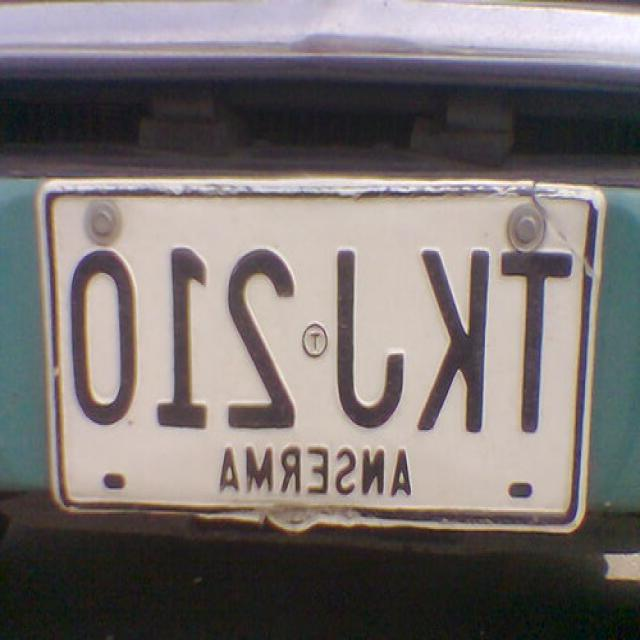placas: (60, 241, 576, 446)
